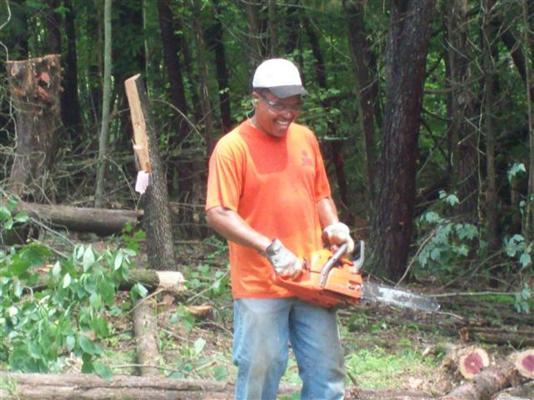person: (204, 58, 355, 400)
